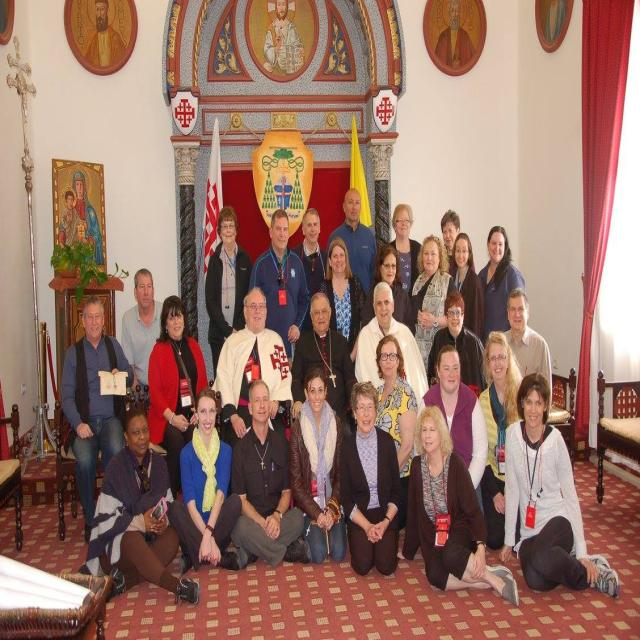body: (498, 370, 620, 601), (398, 401, 522, 614), (95, 407, 201, 606), (59, 293, 136, 546), (229, 381, 312, 570), (167, 387, 242, 576), (146, 294, 212, 504), (413, 342, 489, 522), (210, 287, 294, 449), (338, 380, 402, 576), (287, 364, 348, 565), (478, 329, 525, 552), (247, 207, 311, 370), (354, 281, 431, 411), (372, 334, 419, 533), (204, 205, 253, 382), (290, 291, 356, 422), (409, 233, 459, 377), (500, 285, 553, 417), (426, 290, 489, 400), (119, 266, 166, 404), (476, 224, 527, 348), (316, 234, 366, 351), (327, 187, 378, 298), (360, 240, 416, 338), (57, 164, 104, 270), (448, 230, 486, 342), (258, 0, 307, 79), (74, 0, 129, 67), (386, 202, 423, 300), (291, 207, 328, 300), (432, 0, 476, 70), (438, 208, 477, 282), (538, 0, 567, 45)
